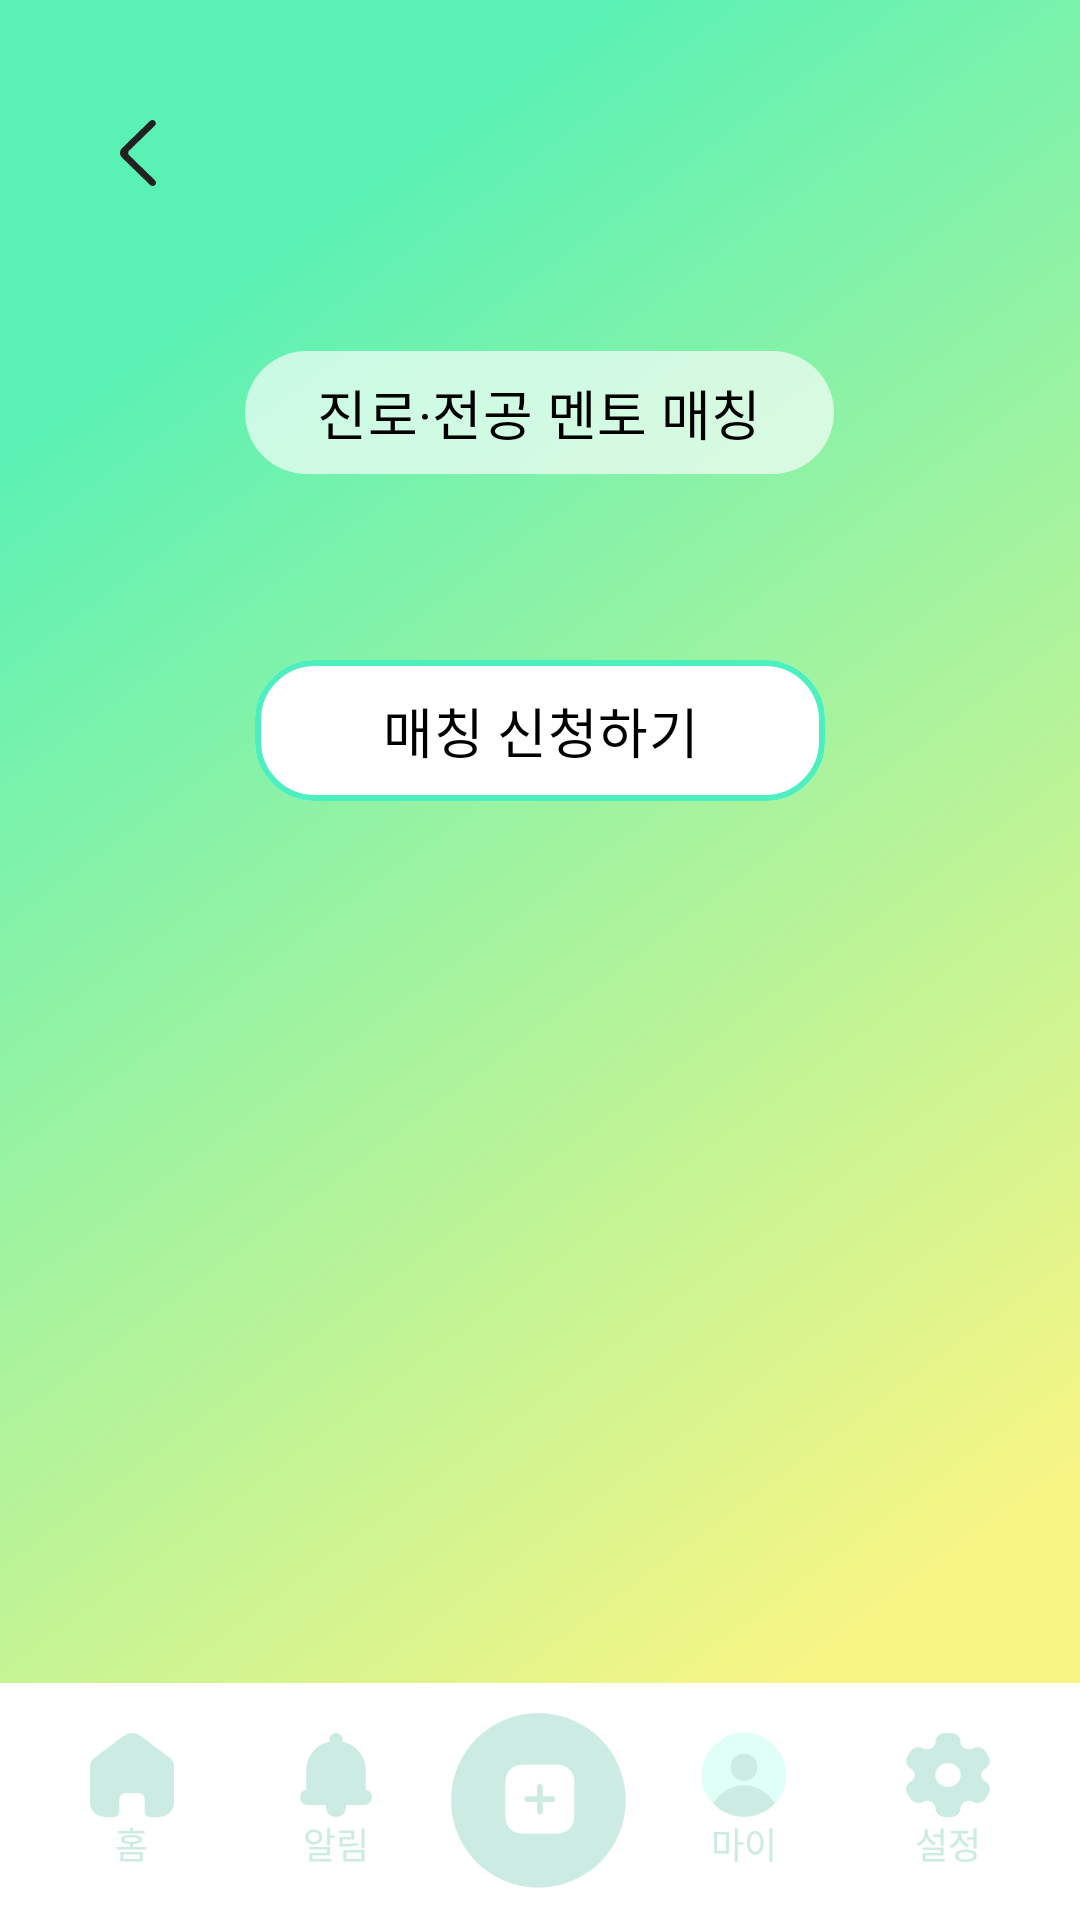

Where to tap for icons on this 1080x1920 app screen, as [x,y]:
arrow left: [138,153]
